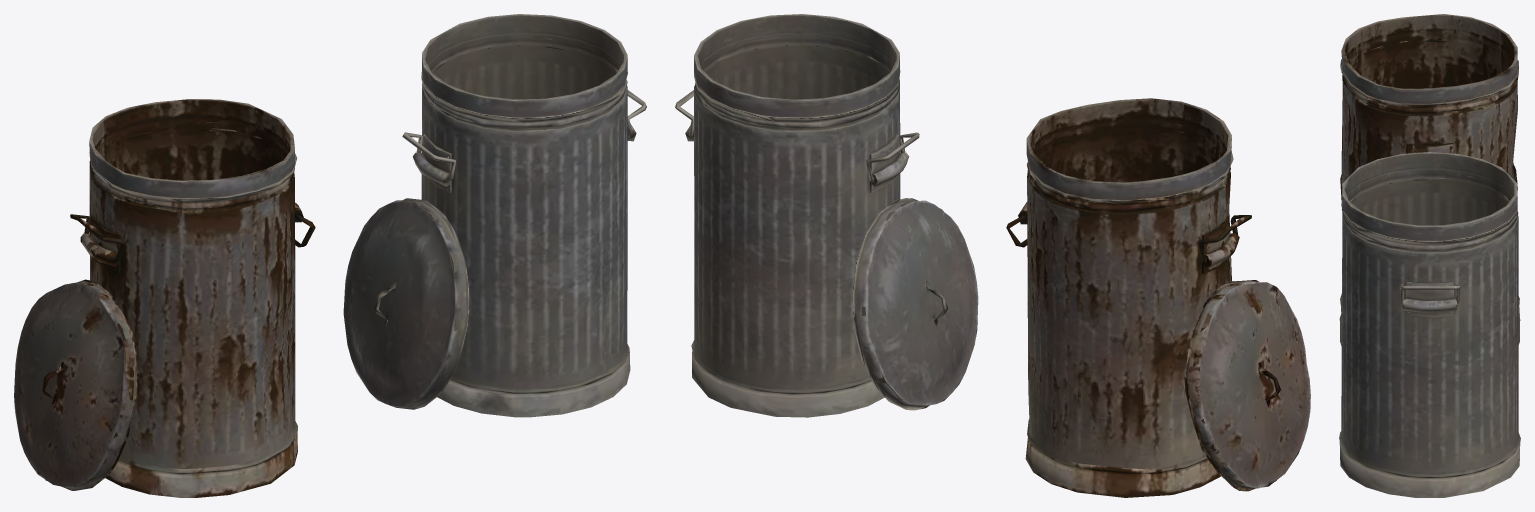
Rendered from metal_trash_can.glb.
3 views of the same model, side by side, from view 1: azimuth 30°, elevation 25°; view 2: azimuth 150°, elevation 25°; view 3: azimuth 270°, elevation 25° (orthographic). The views are drawn at different scales.
Visible parts, largest first — view 1: metal_trash_can_handle_left, metal_trash_can_rust; view 2: metal_trash_can_handle_left, metal_trash_can_rust; view 3: metal_trash_can_handle_left, metal_trash_can_rust.
Part boxes in pixels (x1,y1,x2,y2): metal_trash_can_handle_left: (343,14,646,417); metal_trash_can_rust: (14,99,315,497); metal_trash_can_handle_left: (675,14,978,417); metal_trash_can_rust: (1006,98,1310,497); metal_trash_can_handle_left: (1339,152,1520,497); metal_trash_can_rust: (1340,14,1520,320).
Size of the model in its own units: 1.78 by 0.9062 by 0.5524.
Materials: 2 (2 with a texture image).
